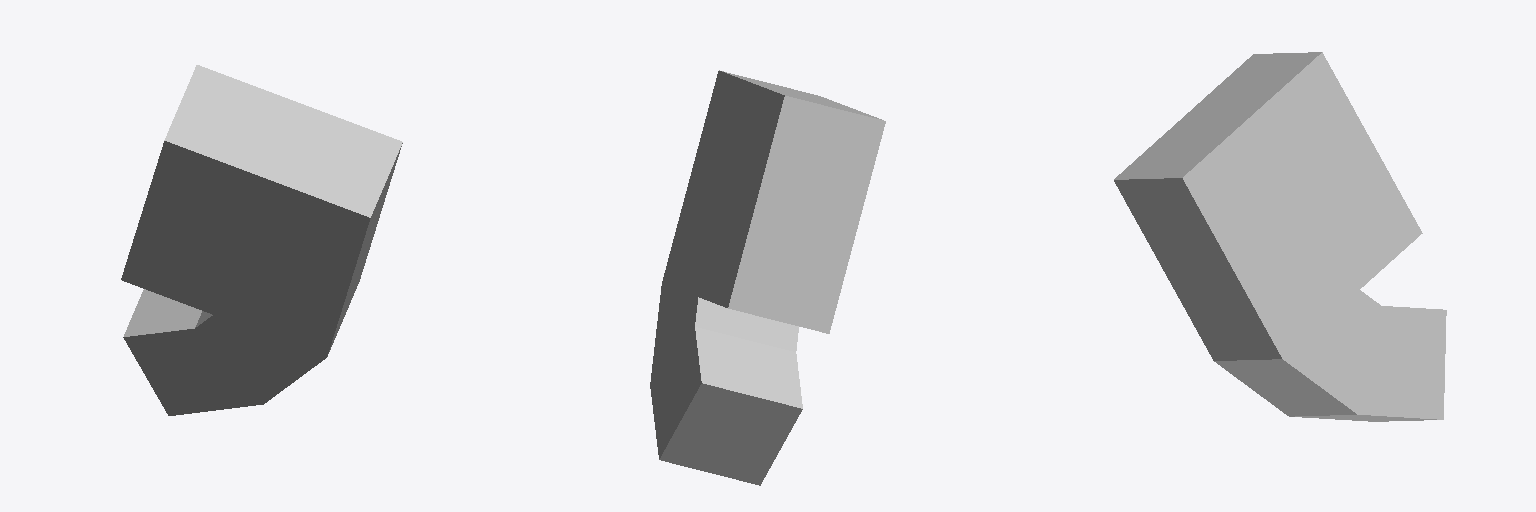
The model's file is turbo.obj.
3 renders of one model, left to right at view 1: azimuth 30°, elevation 25°; view 2: azimuth 150°, elevation 25°; view 3: azimuth 270°, elevation 25°, orthographic.
Visible parts, largest first — view 1: cube; view 2: cube; view 3: cube.
Part boxes in pixels (bbox=[...]): cube: bbox=[121, 65, 402, 415]; cube: bbox=[650, 70, 885, 485]; cube: bbox=[1114, 52, 1446, 421].
Size of the model in its own units: 0.6703 by 1.13 by 0.9223.